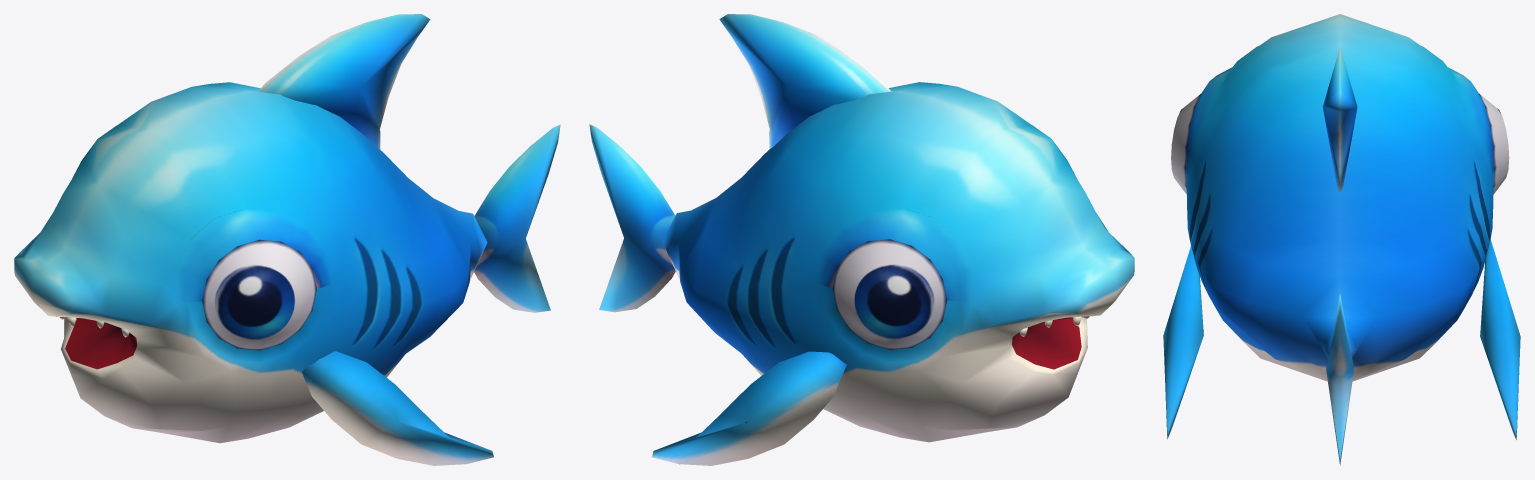
The picture shows the model from 3 angles, left to right: view 1: azimuth 30°, elevation 25°; view 2: azimuth 150°, elevation 25°; view 3: azimuth 270°, elevation 25°; orthographic projection. The views are drawn at different scales.
Parts seen in each view (by area): view 1: Blue_Shark_1000Tris; view 2: Blue_Shark_1000Tris; view 3: Blue_Shark_1000Tris.
Boxes of the visible parts, box(x1,y1,x2,y2) form: Blue_Shark_1000Tris: box(14, 14, 560, 465); Blue_Shark_1000Tris: box(589, 14, 1134, 465); Blue_Shark_1000Tris: box(1163, 14, 1520, 465).
Bounding box in the file's own units: 295 × 203 × 180.
2 materials, 2 textured.
